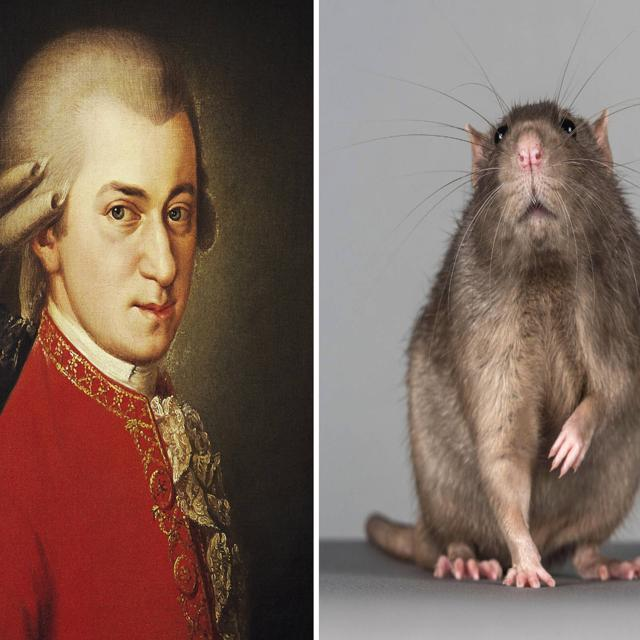rat: (368, 63, 640, 596)
